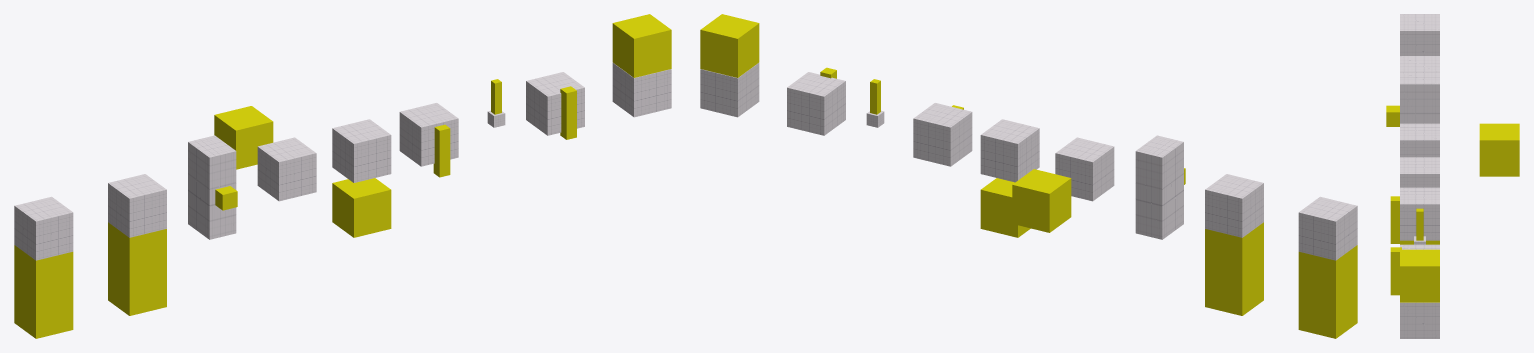
The model's file is JointTypes.glb.
3 renders of one model, left to right at view 1: azimuth 30°, elevation 25°; view 2: azimuth 150°, elevation 25°; view 3: azimuth 270°, elevation 25°, orthographic. The views are drawn at different scales.
Visible parts, largest first — view 1: Cube.006, Cube.008, Cube, Cube.010, Cube.019, Cube.003, Cube.011, Cube.012, Cube.016, Cube.009, Cube.020, Cube.001 (+5 smaller); view 2: Cube.006, Cube, Cube.012, Cube.009, Cube.019, Cube.003, Cube.010, Cube.016, Cube.008, Cube.020, Cube.001, Cube.002 (+3 smaller); view 3: Cube.009, Cube.019, Cube.006, Cube.012, Cube, Cube.020, Cube.008, Cube.010, Cube.003, Cube.017, Cube.015, Cube.007 (+3 smaller).
Part boxes in pixels (x1=…): Cube.006: x1=188, y1=135, x2=236, y2=239; Cube.008: x1=257, y1=137, x2=316, y2=201; Cube: x1=14, y1=196, x2=73, y2=260; Cube.010: x1=332, y1=119, x2=391, y2=182; Cube.019: x1=612, y1=14, x2=671, y2=77; Cube.003: x1=108, y1=174, x2=166, y2=237; Cube.011: x1=332, y1=178, x2=391, y2=237; Cube.012: x1=399, y1=103, x2=458, y2=166; Cube.016: x1=526, y1=72, x2=584, y2=135; Cube.009: x1=214, y1=106, x2=273, y2=169; Cube.020: x1=612, y1=62, x2=671, y2=117; Cube.001: x1=14, y1=245, x2=73, y2=299; Cube.006: x1=1135, y1=135, x2=1183, y2=239; Cube: x1=1298, y1=196, x2=1357, y2=260; Cube.012: x1=913, y1=103, x2=972, y2=166; Cube.009: x1=1012, y1=169, x2=1071, y2=232; Cube.019: x1=700, y1=14, x2=759, y2=77; Cube.003: x1=1205, y1=174, x2=1263, y2=237; Cube.010: x1=980, y1=119, x2=1039, y2=182; Cube.016: x1=787, y1=72, x2=845, y2=135; Cube.008: x1=1055, y1=137, x2=1114, y2=201; Cube.020: x1=700, y1=62, x2=759, y2=117; Cube.001: x1=1298, y1=245, x2=1357, y2=299; Cube.002: x1=1298, y1=284, x2=1357, y2=338; Cube.009: x1=1479, y1=123, x2=1519, y2=176; Cube.019: x1=1400, y1=249, x2=1439, y2=302; Cube.006: x1=1400, y1=72, x2=1439, y2=123; Cube.012: x1=1400, y1=187, x2=1439, y2=240; Cube: x1=1400, y1=14, x2=1439, y2=55; Cube.020: x1=1400, y1=302, x2=1439, y2=338; Cube.008: x1=1400, y1=123, x2=1439, y2=157; Cube.010: x1=1400, y1=157, x2=1439, y2=187; Cube.003: x1=1400, y1=56, x2=1439, y2=72; Cube.017: x1=1390, y1=247, x2=1401, y2=295; Cube.015: x1=1390, y1=196, x2=1401, y2=243; Cube.007: x1=1386, y1=105, x2=1399, y2=126.
Bounding box in the file's own units: 8.5 × 1.97 × 1.67.
Materials: 2 (1 with a texture image).
